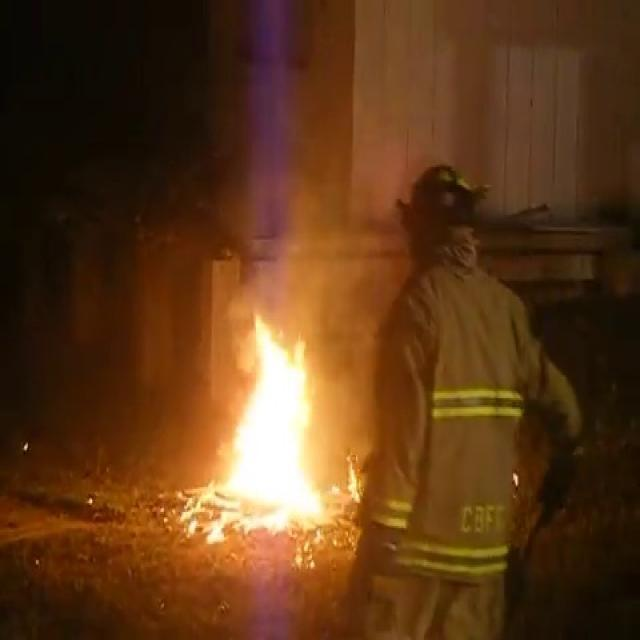Fire: (204, 304, 343, 539)
